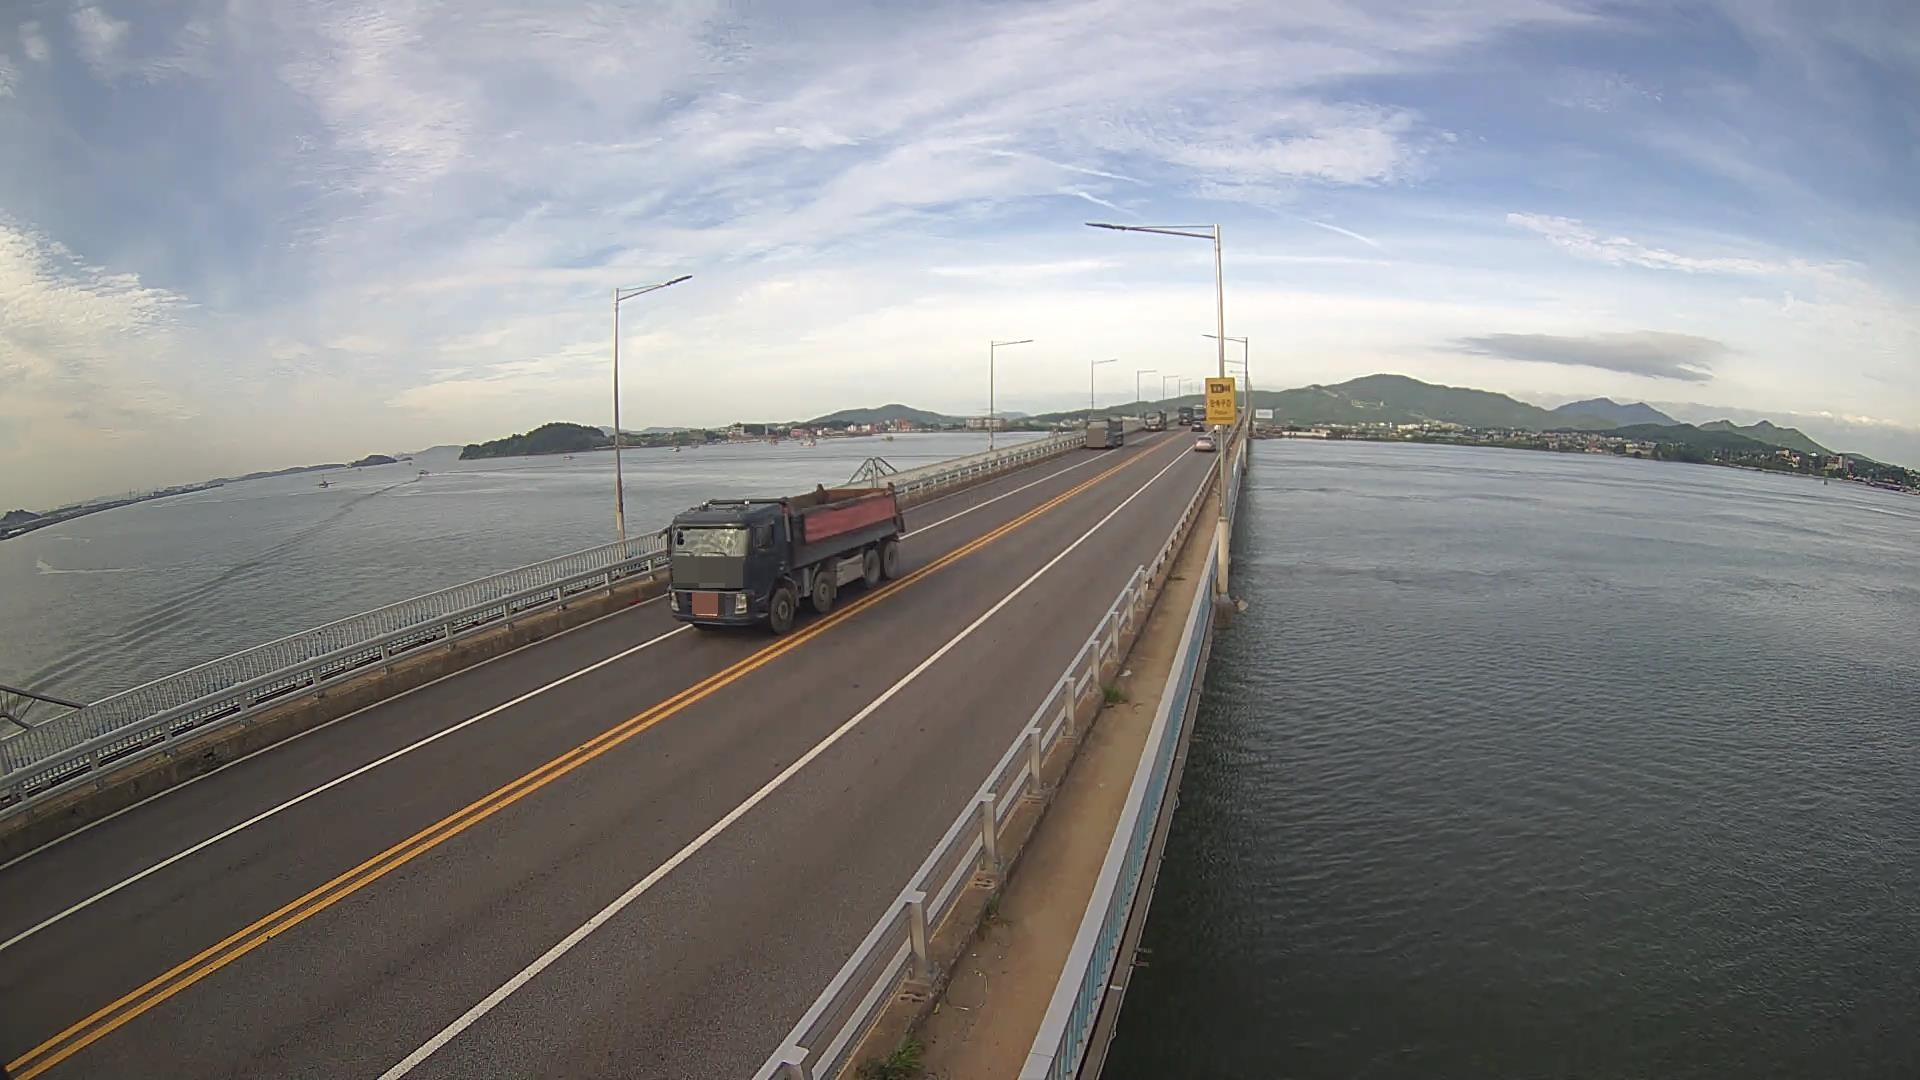정상차량: (656, 481, 906, 635)
